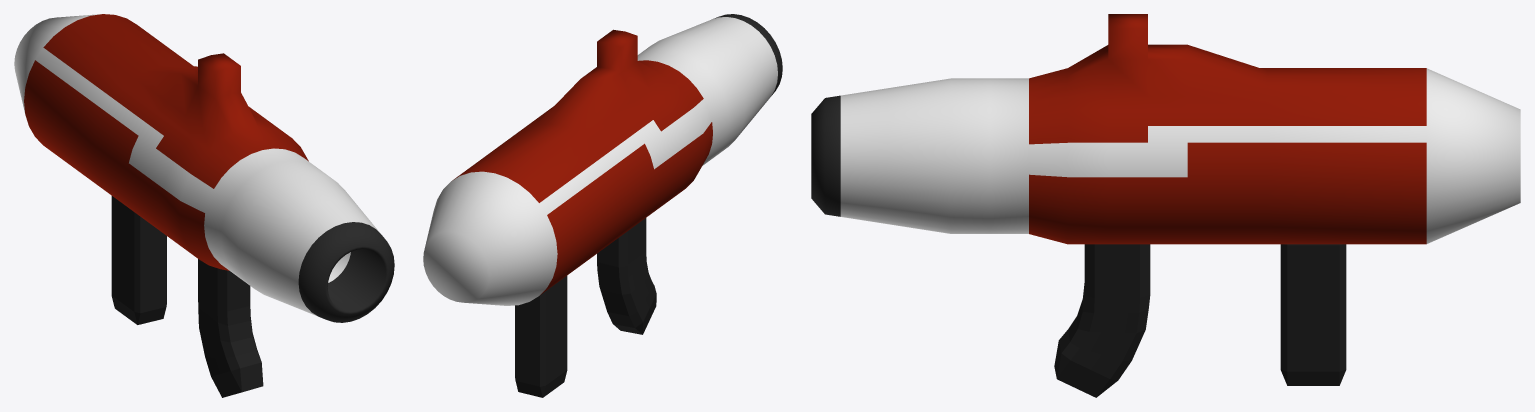
Rendered from SnowCanon.fbx.
3 views of the same model, side by side, from view 1: azimuth 30°, elevation 25°; view 2: azimuth 150°, elevation 25°; view 3: azimuth 270°, elevation 25° (orthographic). The views are drawn at different scales.
Visible parts, largest first — view 1: Cylinder, Cube, Cube.001; view 2: Cylinder, Cube.001, Cube; view 3: Cylinder, Cube, Cube.001.
Boxes of the visible parts, x1,y1,x2,y2 form: Cylinder: [14, 14, 394, 322]; Cube: [198, 259, 263, 397]; Cube.001: [111, 196, 166, 324]; Cylinder: [423, 14, 782, 305]; Cube.001: [515, 276, 567, 397]; Cube: [597, 218, 656, 334]; Cylinder: [811, 14, 1520, 244]; Cube: [1054, 244, 1150, 397]; Cube.001: [1280, 244, 1346, 385].
Bounding box in the file's own units: 140 × 325 × 561.
